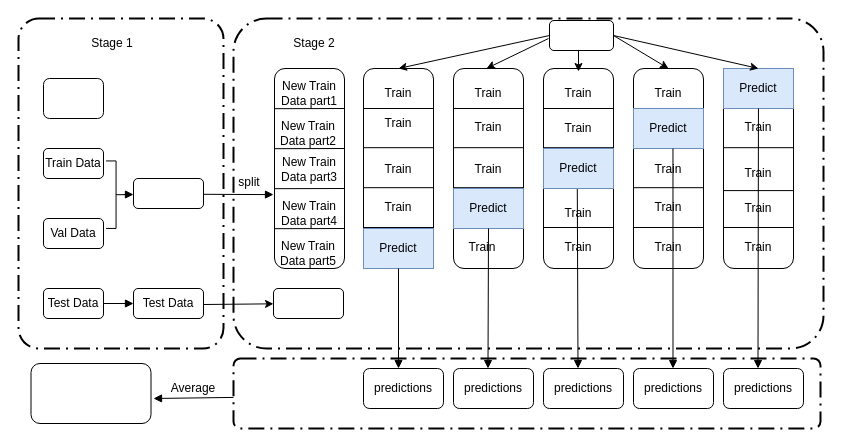
Image size: 841x446. Some labels were removed from this diagram. The box of each missing label's shape, as (x1, y1, x2, y2) in pixels:
model: (548, 20, 614, 50)
New Test Data: (272, 288, 344, 318)
New Train Data: (132, 178, 204, 208)
Original Train Data: (42, 78, 104, 118)
Result: (30, 362, 151, 424)
